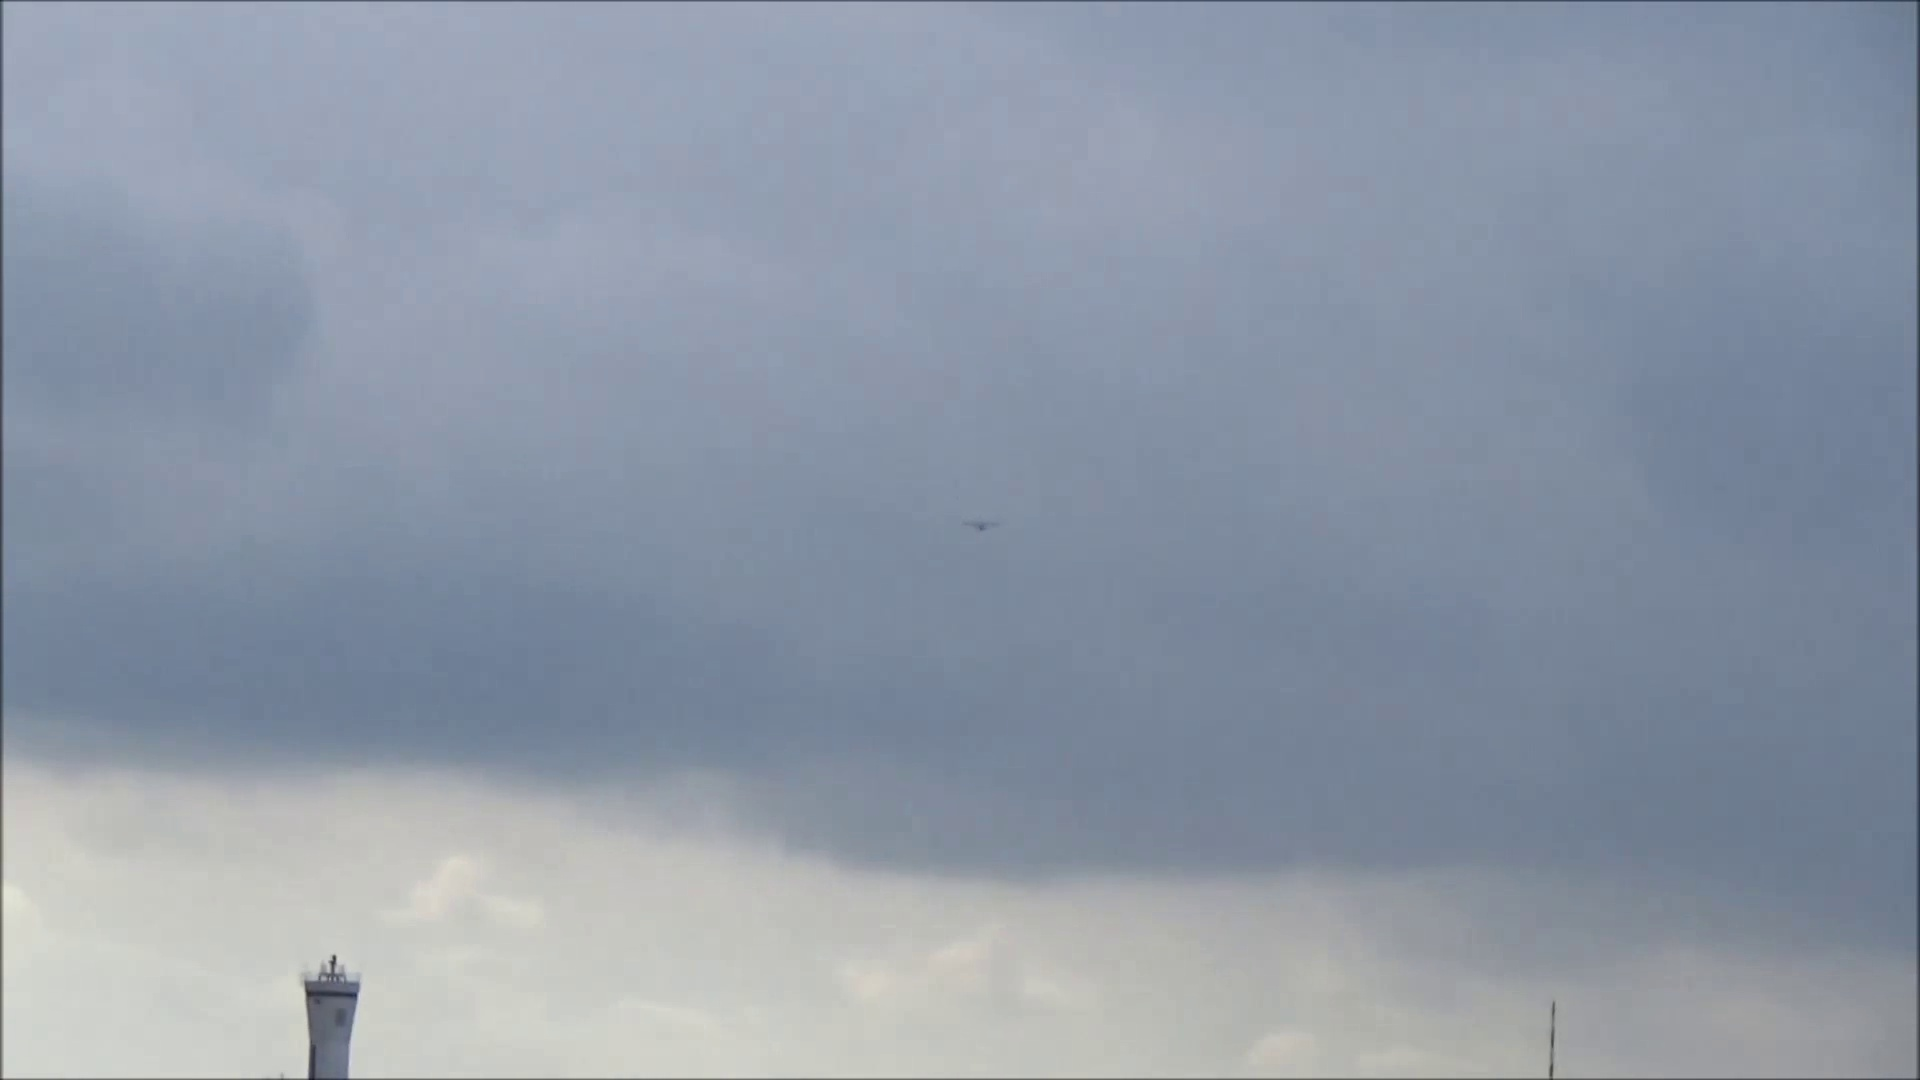Airplane: (959, 513, 1004, 538)
